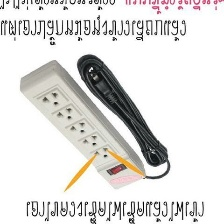three_eye_plug: (16, 57, 152, 196)
